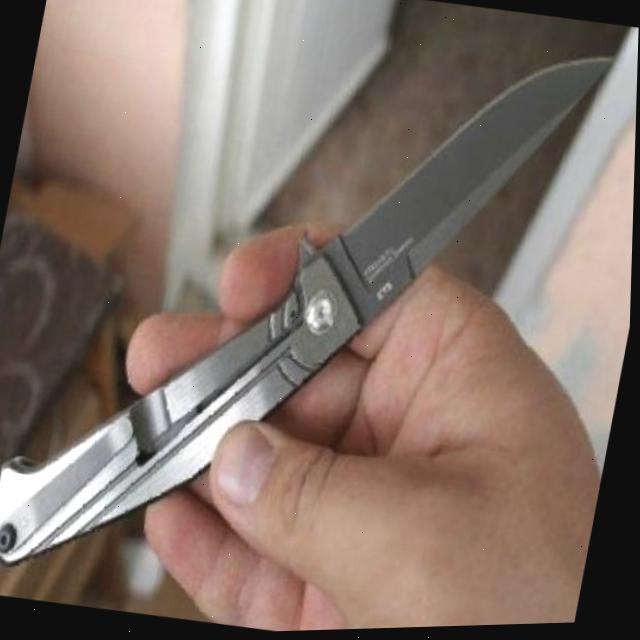knife: (0, 0, 617, 640)
